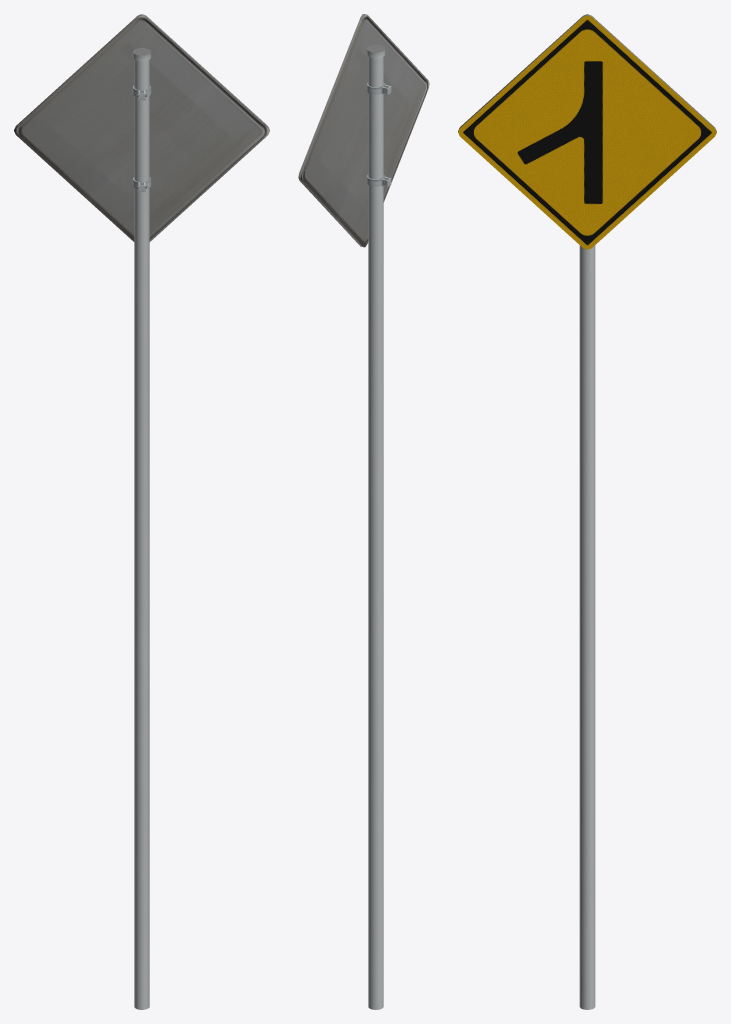
Rendered from Preset_Sign210.fbx.
The picture shows the model from 3 angles, left to right: view 1: azimuth 90°, elevation 25°; view 2: azimuth 150°, elevation 25°; view 3: azimuth 270°, elevation 25°; orthographic projection.
Visible parts, largest first — view 1: Sign208_Back, PoleV; view 2: PoleV, Sign208_Back; view 3: Sign210, PoleV.
Part boxes in pixels (<box>): Sign208_Back: <box>14,14,269,241</box>; PoleV: <box>132,48,151,1009</box>; PoleV: <box>366,45,391,1009</box>; Sign208_Back: <box>298,14,429,247</box>; Sign210: <box>458,15,716,249</box>; PoleV: <box>579,245,595,1009</box>.
Bounding box in the file's own units: 10.13 × 83 × 353.
Materials: 3 (3 with a texture image).
